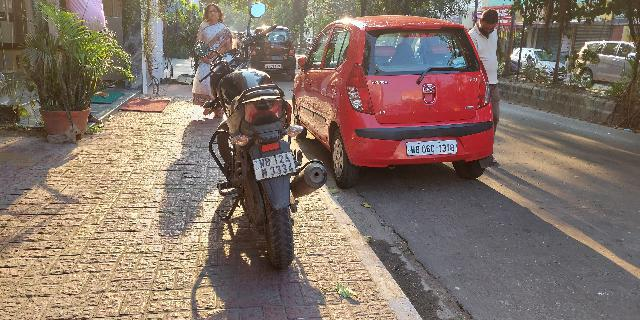Car: (290, 18, 502, 183), (237, 18, 297, 74)
Motorbike: (201, 20, 315, 268)
